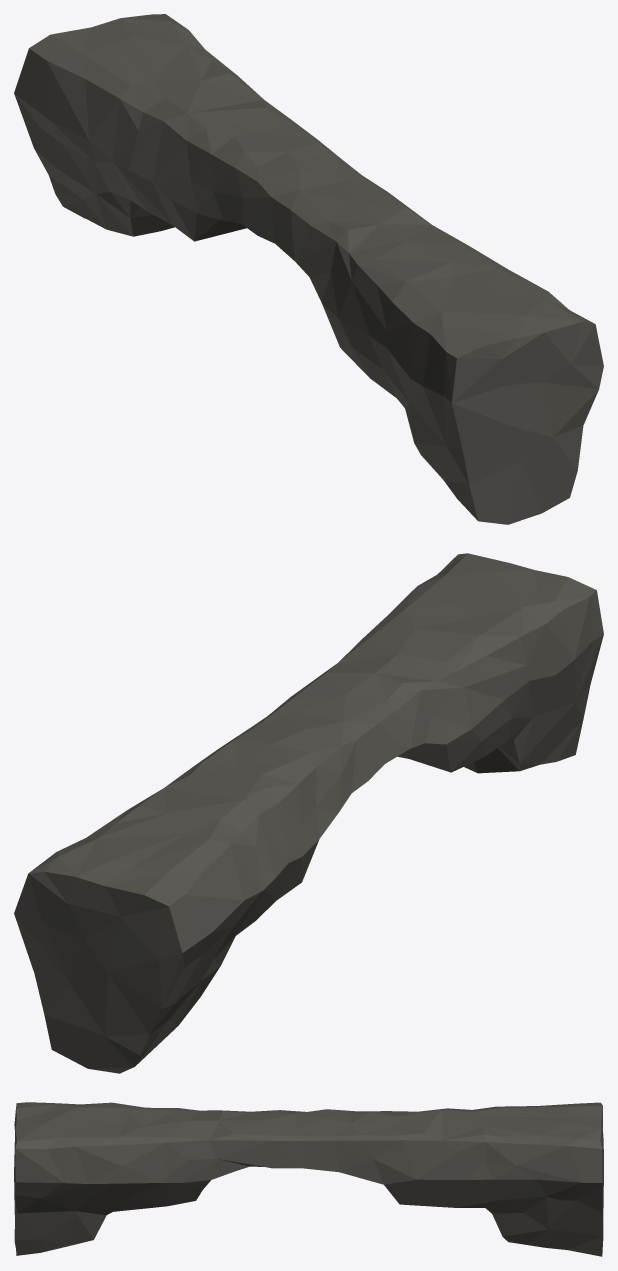
The model's file is Rock_BridgePile.fbx.
3 renders of one model, top to bottom at view 1: azimuth 30°, elevation 25°; view 2: azimuth 150°, elevation 25°; view 3: azimuth 270°, elevation 25°, orthographic. The views are drawn at different scales.
Visible parts, largest first — view 1: Rock_BridgePile; view 2: Rock_BridgePile; view 3: Rock_BridgePile.
Boxes of the visible parts, bbox=[...] form: Rock_BridgePile: bbox=[14, 14, 603, 524]; Rock_BridgePile: bbox=[14, 553, 603, 1073]; Rock_BridgePile: bbox=[14, 1102, 603, 1256].
Bounding box in the file's own units: 1018 × 1112 × 4546.
